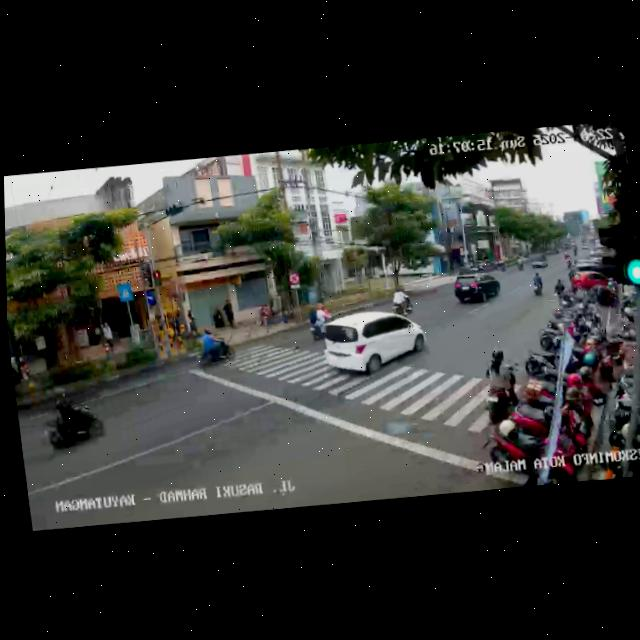car: (320, 303, 429, 380), (569, 259, 621, 304), (451, 268, 504, 306), (622, 256, 640, 292), (523, 250, 550, 269)
motorcycle: (33, 388, 110, 455), (476, 345, 521, 426), (192, 322, 233, 370), (305, 301, 328, 342), (551, 273, 575, 311), (387, 283, 413, 315), (528, 266, 544, 295)
person: (224, 295, 239, 330), (187, 305, 199, 334)
